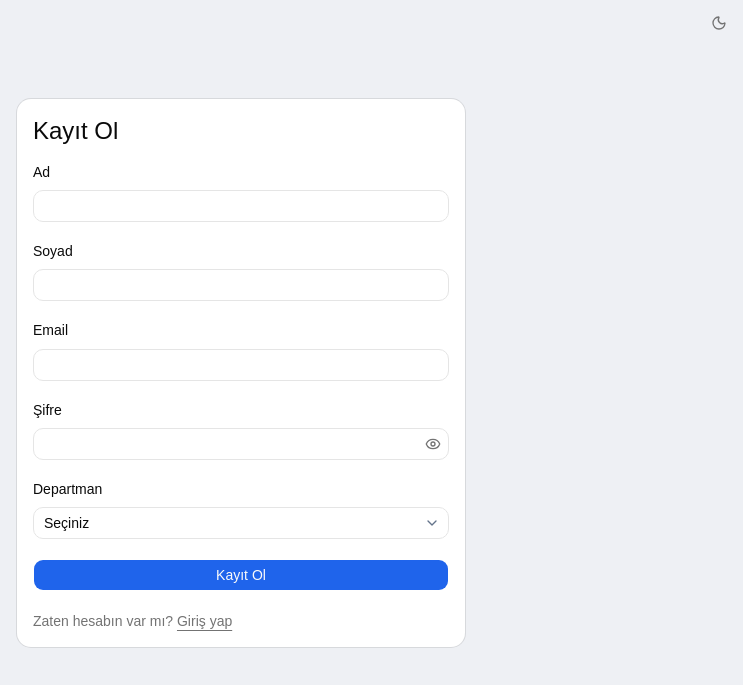
it: Register page › shows the hardcoded rate-limit message on a 429 from the register endpoint
Expected: the dropdown labelled "Departman" is shown, [33, 507, 449, 539]
Type "Taha" into the field labelled "Ad".
click(241, 206); type("Taha")  # box [33, 190, 449, 222]
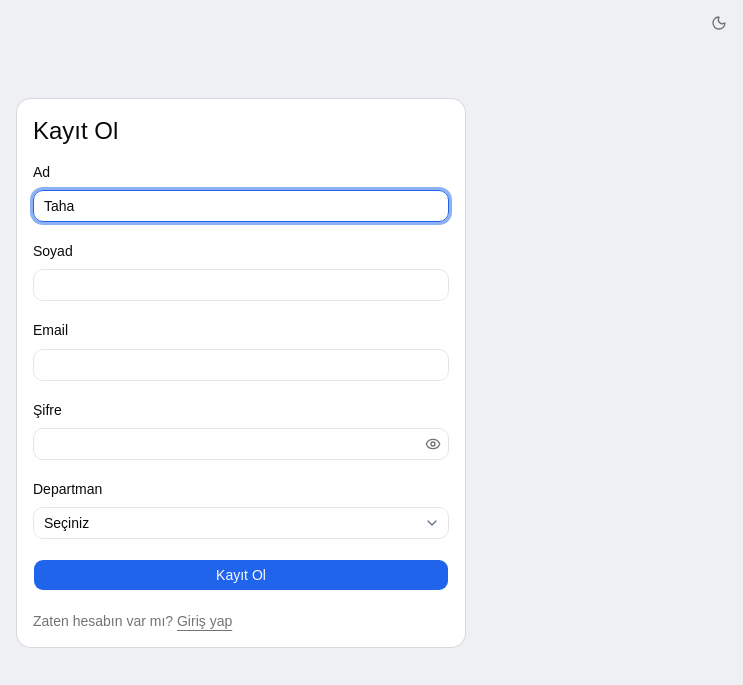
Type "Bugra" into the field labelled "Soyad".
click(241, 285); type("Bugra")  # box [33, 269, 449, 301]
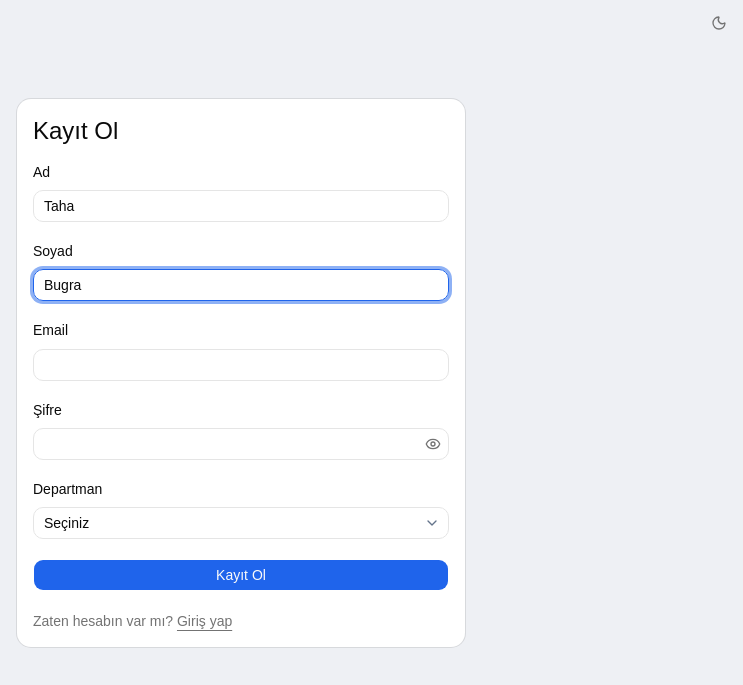
Type "taha@gmail.com" into the field labelled "Email".
click(241, 365); type("taha@gmail.com")  # box [33, 349, 449, 381]
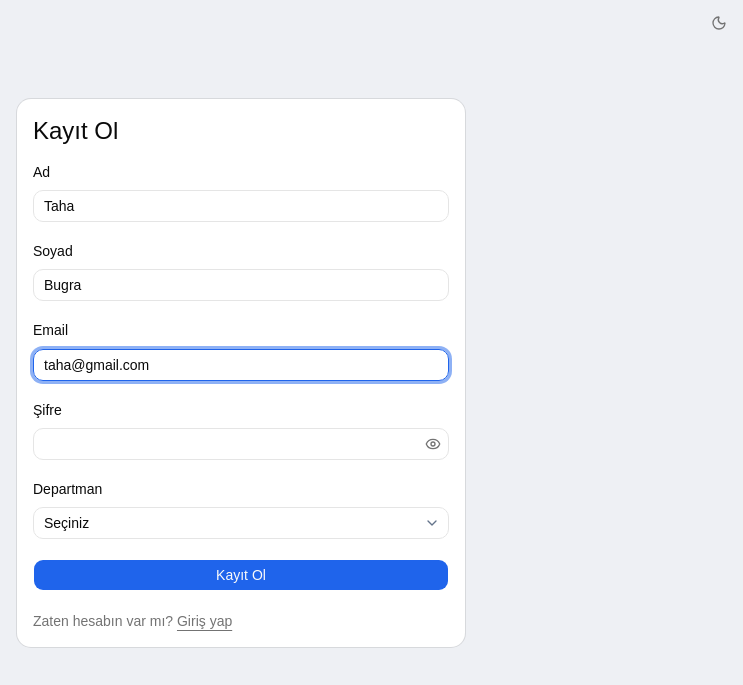
Type "sifre1234test" into the password field labelled "Şifre".
click(241, 444); type("sifre1234test")  # box [33, 428, 449, 460]
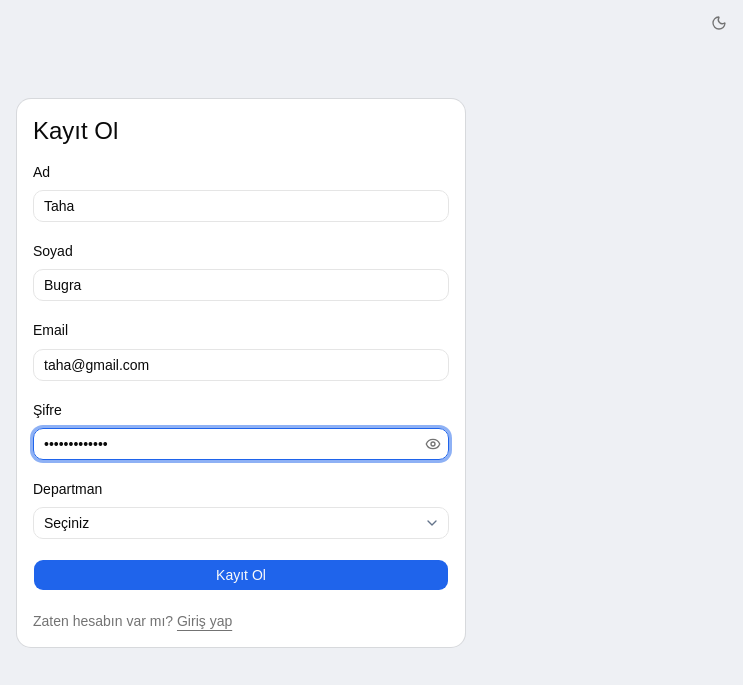
Select "IT" in the dropdown labelled "Departman" at coordinates (241, 523), box [33, 507, 449, 539]
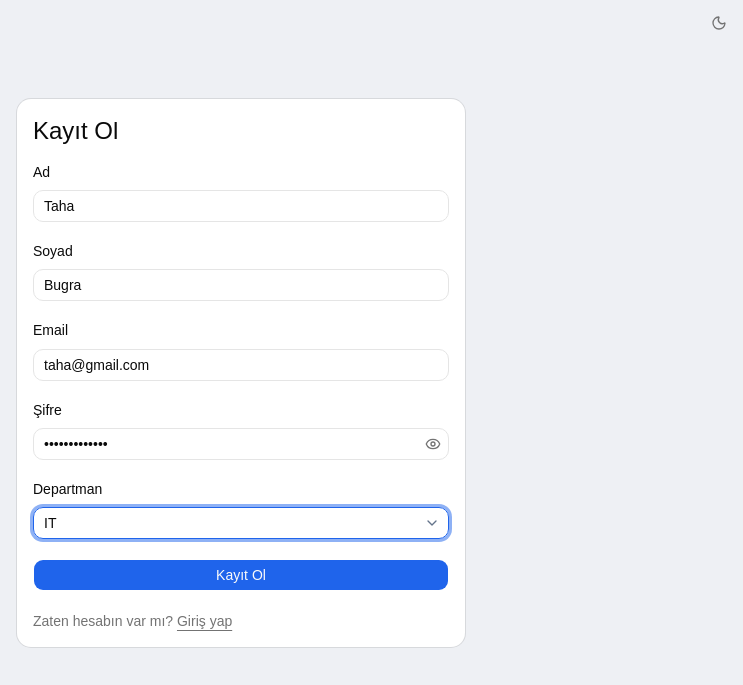
Click the button "Kayıt Ol".
click(241, 575)  # box [33, 559, 449, 591]
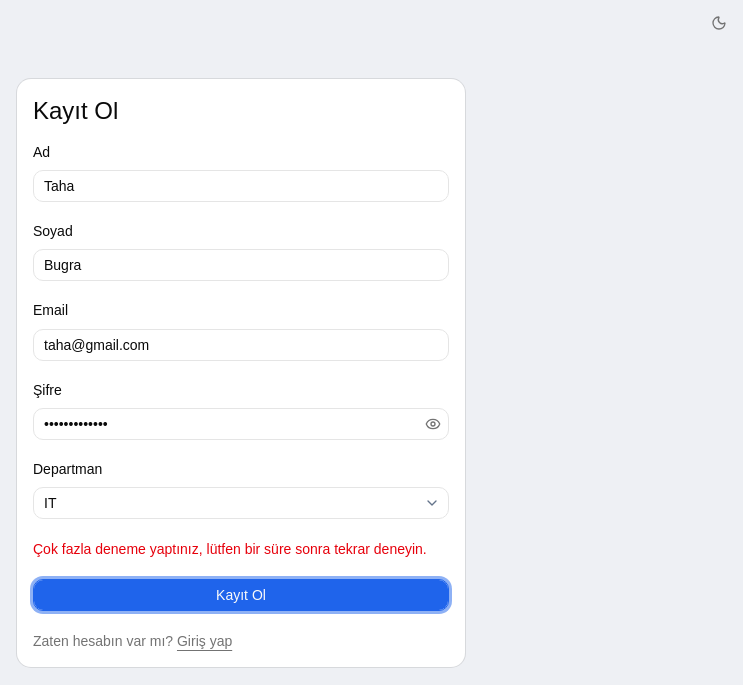
Expected: the text "Çok fazla deneme yaptınız, lütfen bir süre sonra tekrar deneyin." is shown, [33, 539, 449, 559]
